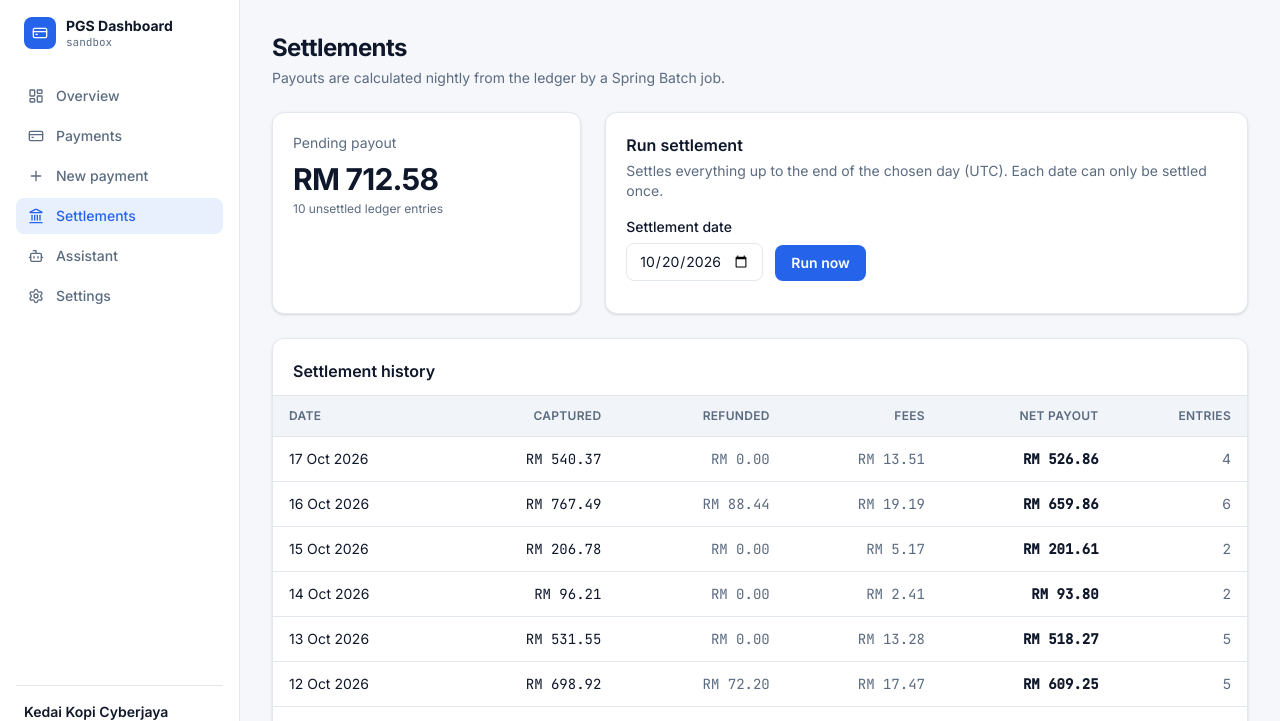
settlements › runs a settlement and refuses to run the same date twice
Click the button "Run now" at {"x": 820, "y": 263}, box [775,245,866,281]
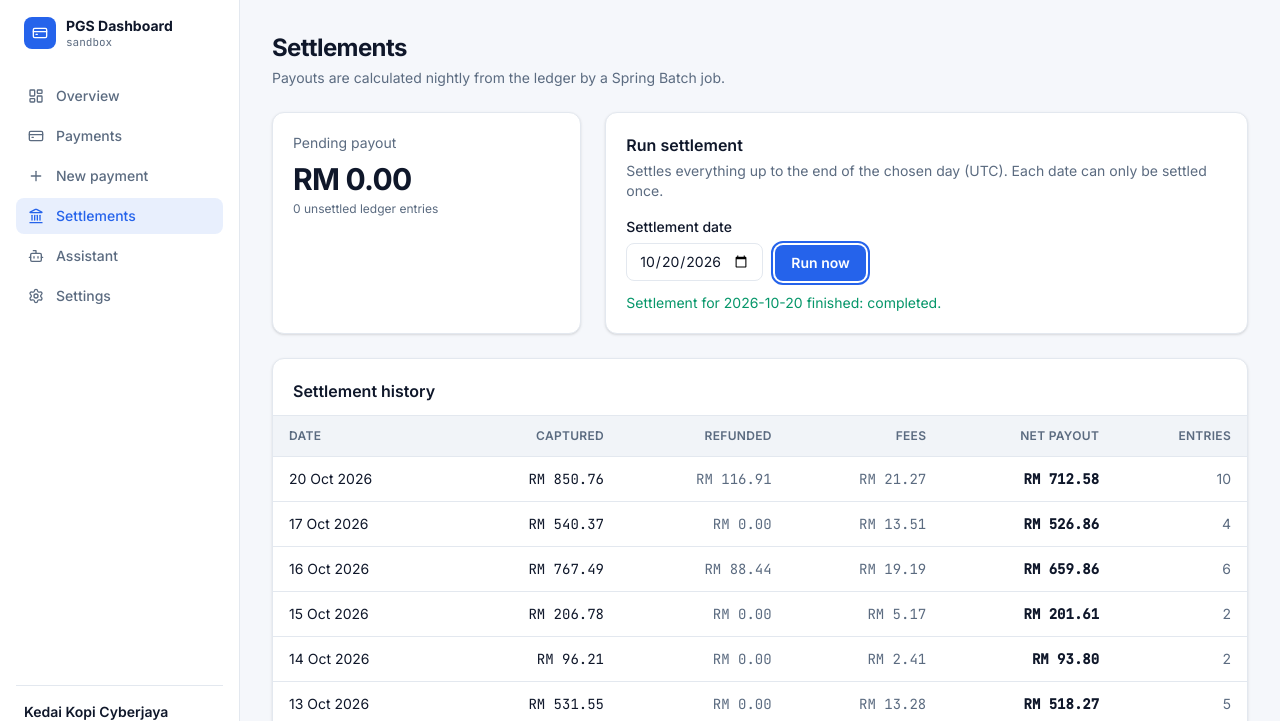
Now the text "Settlement for 2026-10-20 finished: completed." is shown, box [626,294,941,311]
Click the button "Run now" at {"x": 820, "y": 263}, box [775,245,866,281]
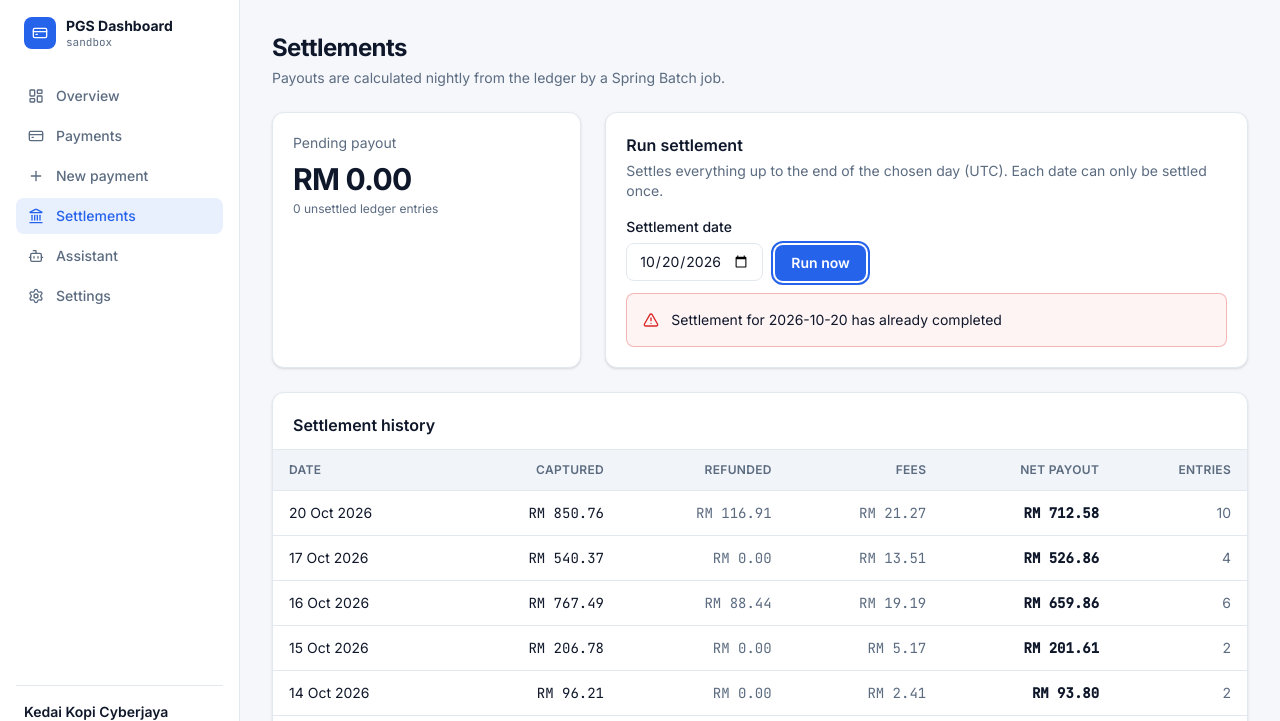
Now the message shows "already completed", box [671,311,1002,328]
